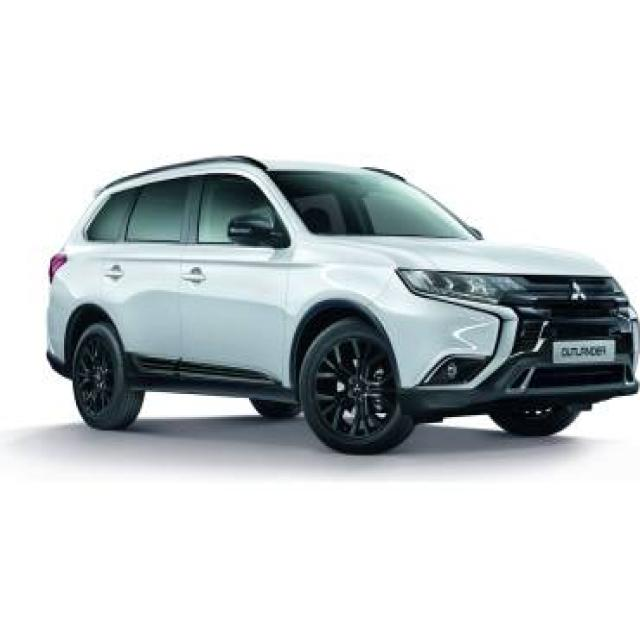light_vehicle: (44, 156, 639, 454)
